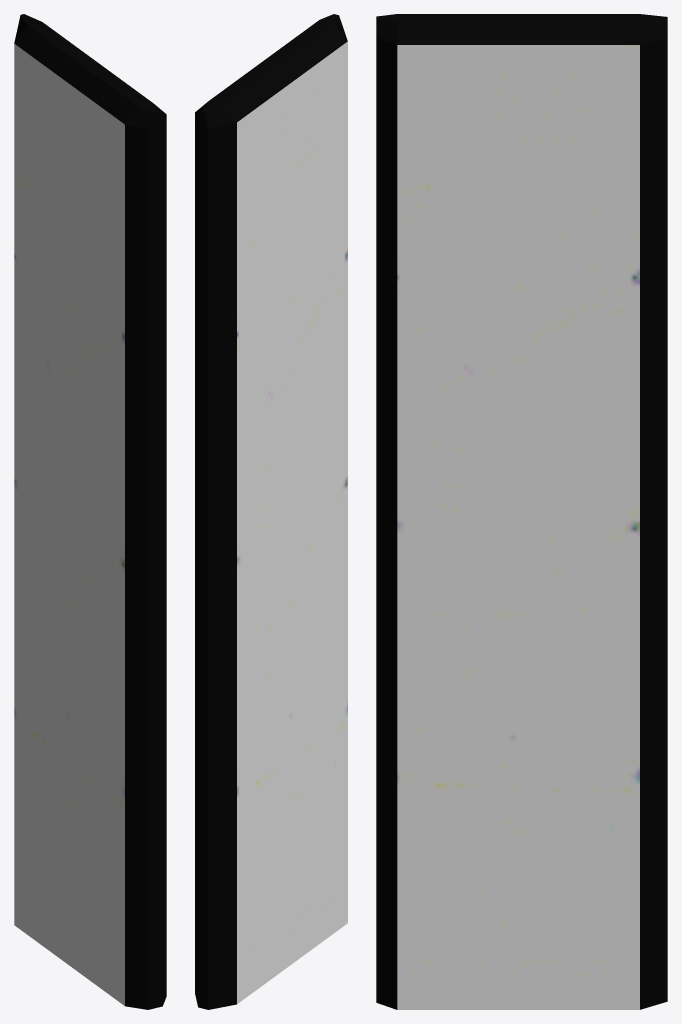
Rendered from sign26.FBX.
3 renders of one model, left to right at view 1: azimuth 30°, elevation 25°; view 2: azimuth 150°, elevation 25°; view 3: azimuth 270°, elevation 25°, orthographic. The views are drawn at different scales.
Visible parts, largest first — view 1: Box001; view 2: Box001; view 3: Box001.
Boxes of the visible parts, box(x1,y1,x2,y2) form: Box001: box(14, 14, 166, 1009); Box001: box(195, 14, 347, 1009); Box001: box(376, 14, 667, 1009).
Bounding box in the file's own units: 4.41 × 90.34 × 24.33.
